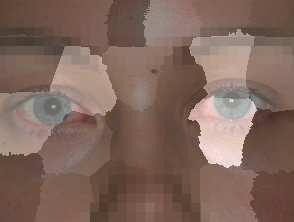SJS-TEN: (26, 0, 264, 73), (196, 141, 294, 222), (0, 151, 92, 222)
